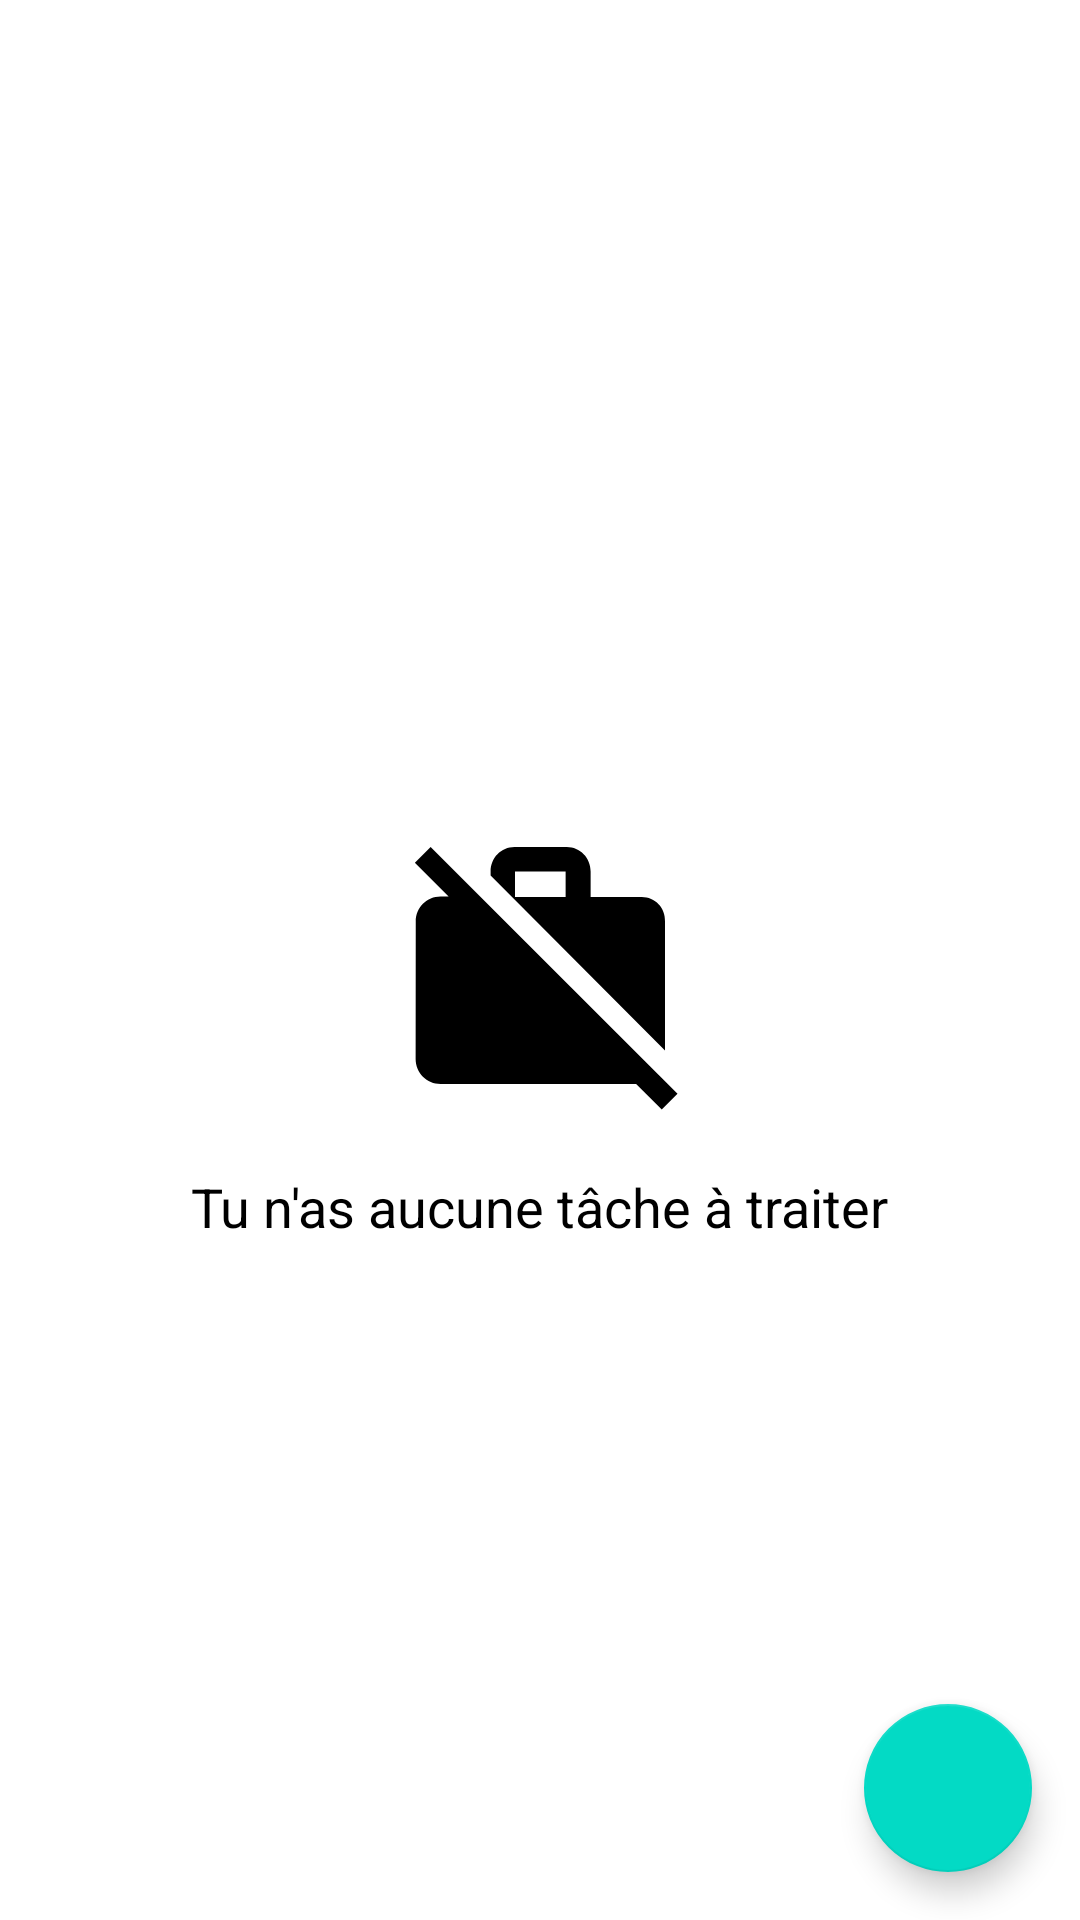

Point at icon controls on the screen. Image size 1080x1920, points as [x,y].
no task: [546,978]
